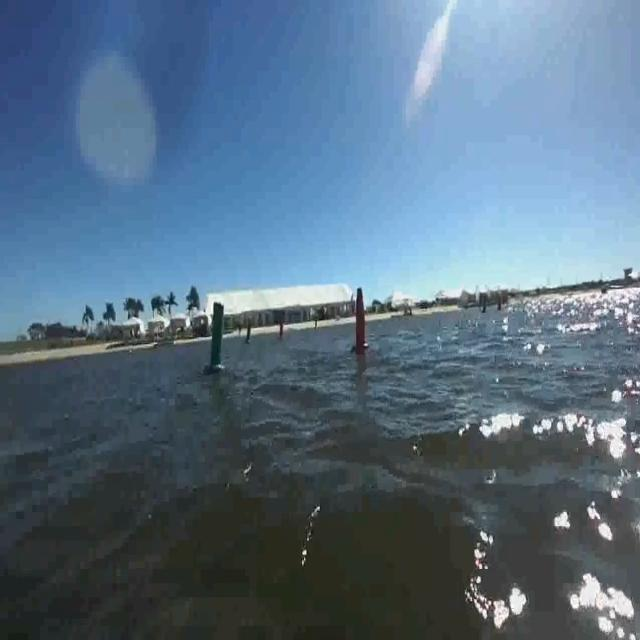green-column-buoy: (206, 302, 227, 377)
red-column-buoy: (350, 287, 370, 353)
